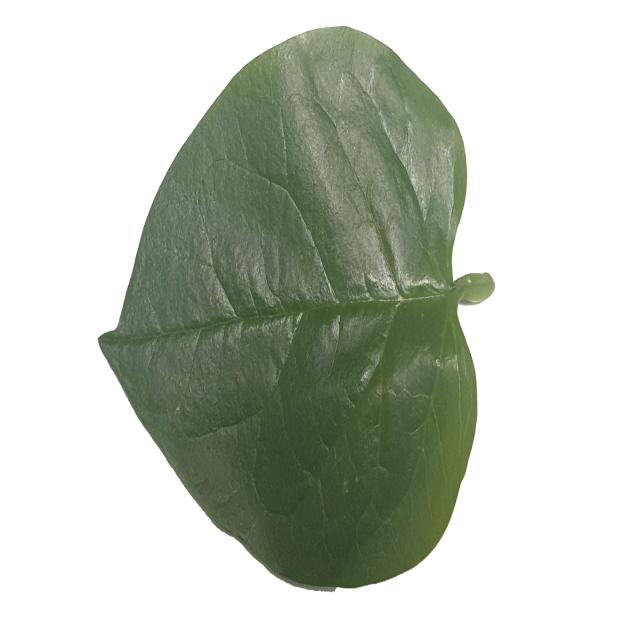Medicinal-Basale: (97, 24, 497, 589)
